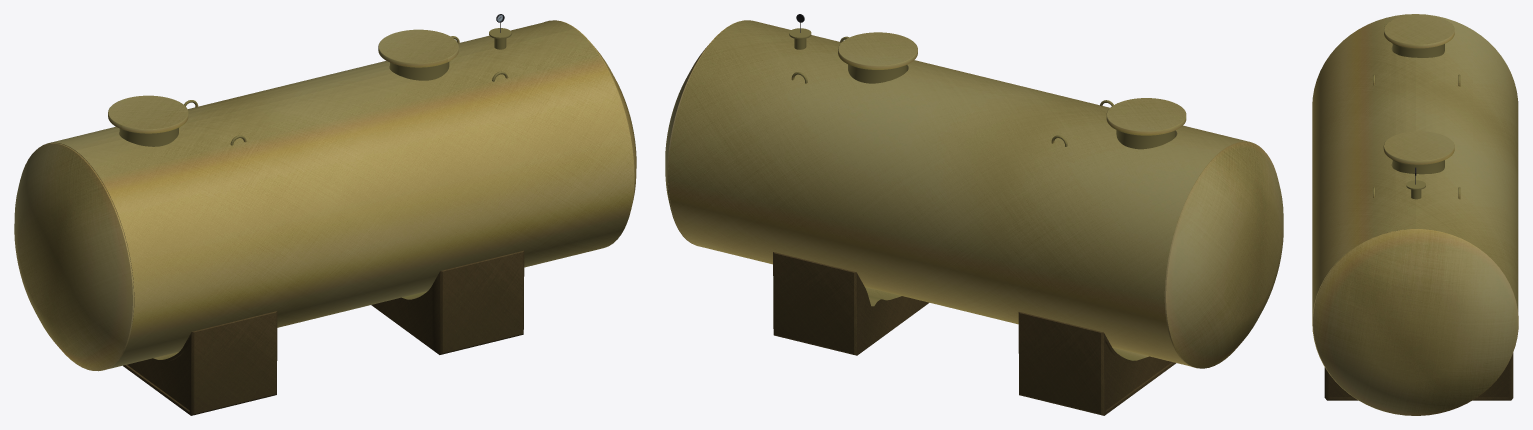
File: woguan.FBX
The picture shows the model from 3 angles, left to right: view 1: azimuth 30°, elevation 25°; view 2: azimuth 150°, elevation 25°; view 3: azimuth 270°, elevation 25°; orthographic projection. The views are drawn at different scales.
Parts seen in each view (by area): view 1: 对象105, 对象014, 对象092, 对象098, 对象104, 对象102, 对象109; view 2: 对象098, 对象014, 对象092, 对象105, 对象104, 对象102, 对象109; view 3: 对象109, 对象105, 对象098, 对象104, 对象092, 对象102, 对象107.
Part boxes in pixels (bbox=[...]): 对象105: bbox=[75, 29, 634, 369]; 对象014: bbox=[14, 143, 134, 371]; 对象092: bbox=[123, 250, 524, 415]; 对象098: bbox=[39, 20, 574, 150]; 对象104: bbox=[108, 29, 458, 133]; 对象102: bbox=[119, 61, 449, 146]; 对象109: bbox=[544, 20, 636, 209]; 对象098: bbox=[668, 29, 1222, 366]; 对象014: bbox=[1164, 142, 1283, 368]; 对象092: bbox=[773, 252, 1176, 415]; 对象105: bbox=[726, 20, 1261, 149]; 对象104: bbox=[838, 32, 1186, 135]; 对象102: bbox=[848, 64, 1175, 149]; 对象109: bbox=[665, 20, 744, 245]; 对象109: bbox=[1313, 229, 1518, 415]; 对象105: bbox=[1312, 14, 1415, 415]; 对象098: bbox=[1416, 14, 1518, 311]; 对象104: bbox=[1383, 15, 1454, 164]; 对象092: bbox=[1324, 353, 1513, 400]; 对象102: bbox=[1392, 43, 1444, 174]; 对象107: bbox=[1406, 180, 1425, 199].
Size of the model in its own units: 220 by 105 by 80.25.
